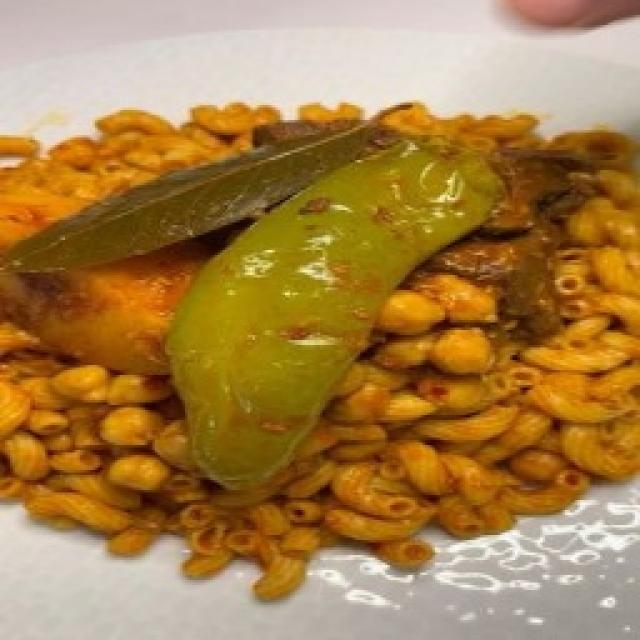Pasta: (0, 105, 640, 608)
